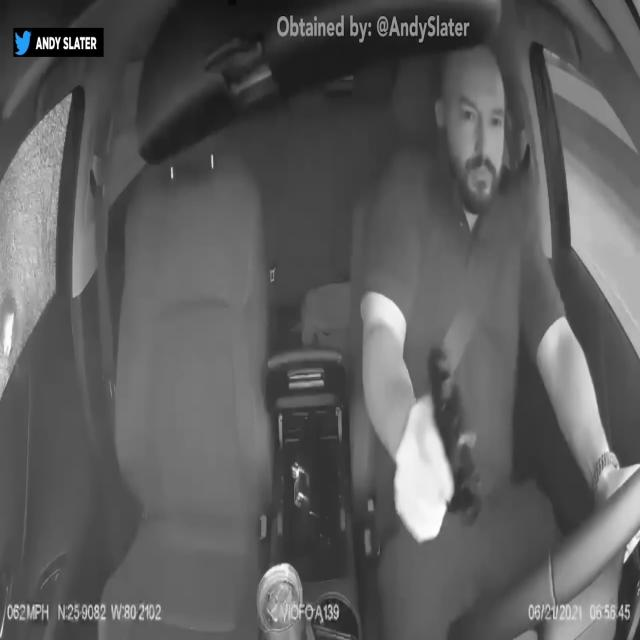senjata_api: (427, 340, 482, 524)
